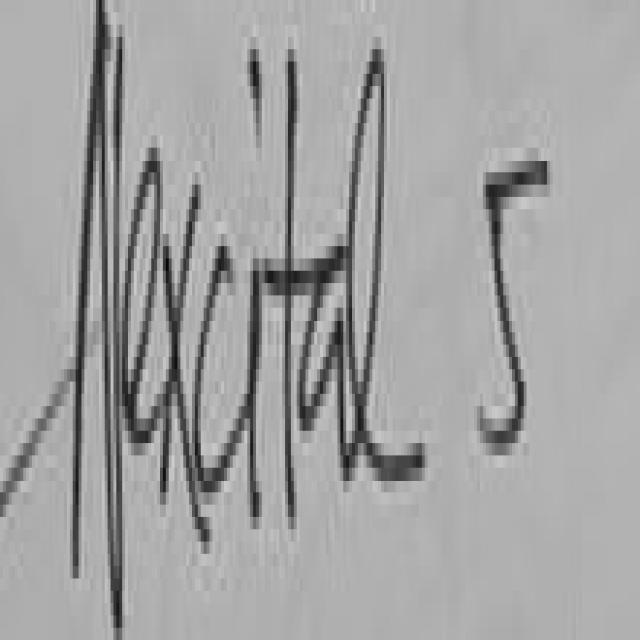5: (470, 116, 554, 506)
N: (76, 2, 126, 630)
X: (158, 138, 199, 542)
a: (298, 160, 350, 530)
c: (192, 211, 240, 521)
e: (124, 106, 166, 468)
i: (234, 20, 268, 542)
l: (348, 1, 403, 516)
t: (271, 34, 302, 538)
